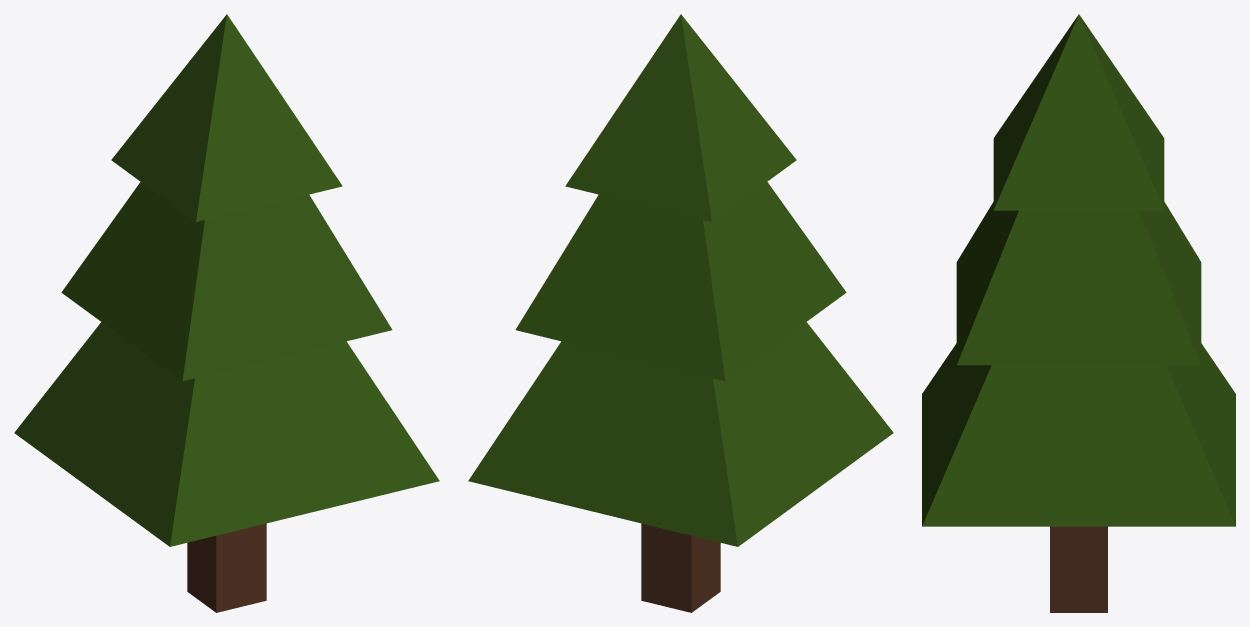
The model's file is tree-001.gltf.
The picture shows the model from 3 angles, left to right: view 1: azimuth 30°, elevation 25°; view 2: azimuth 150°, elevation 25°; view 3: azimuth 270°, elevation 25°; orthographic projection.
Visible parts, largest first — view 1: Tree.001; view 2: Tree.001; view 3: Tree.001.
Boxes of the visible parts, x1,y1,x2,y2 form: Tree.001: (14, 14, 439, 612); Tree.001: (468, 14, 893, 612); Tree.001: (922, 14, 1235, 612).
Bounding box in the file's own units: 1.22 × 2.51 × 1.22.
1 material, 1 textured.
